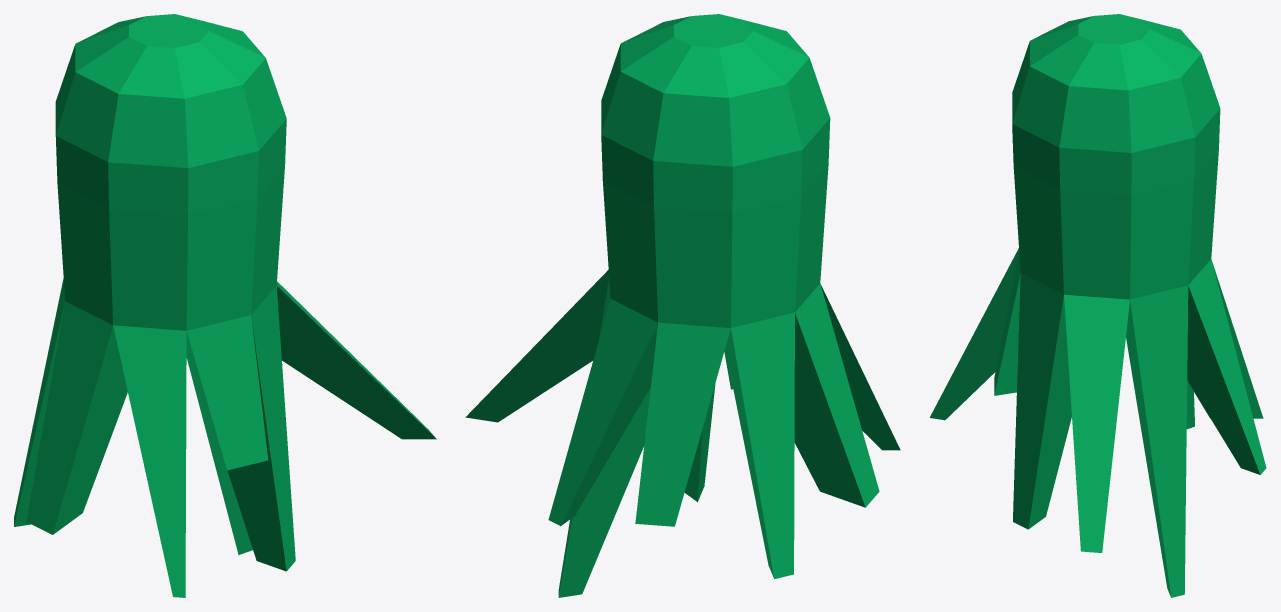
The model's file is SeguaroCactusSmall_LOD0.fbx.
The picture shows the model from 3 angles, left to right: view 1: azimuth 30°, elevation 25°; view 2: azimuth 150°, elevation 25°; view 3: azimuth 270°, elevation 25°; orthographic projection. The views are drawn at different scales.
Visible parts, largest first — view 1: SeguaroCactusSmall_LOD0; view 2: SeguaroCactusSmall_LOD0; view 3: SeguaroCactusSmall_LOD0.
Boxes of the visible parts, <box> form: SeguaroCactusSmall_LOD0: <box>14,14,436,597</box>; SeguaroCactusSmall_LOD0: <box>465,14,900,597</box>; SeguaroCactusSmall_LOD0: <box>929,14,1266,597</box>.
Size of the model in its own units: 38.16 by 64.3 by 47.52.
